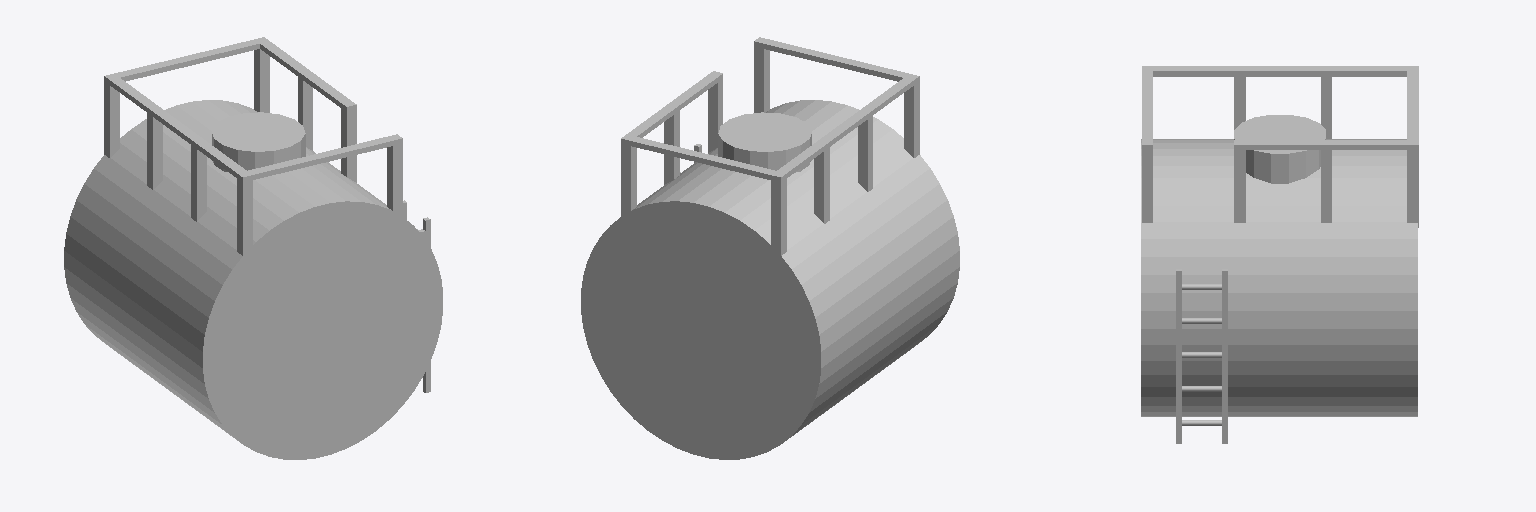
The model's file is gq70_tank_c.obj.
3 renders of one model, left to right at view 1: azimuth 30°, elevation 25°; view 2: azimuth 150°, elevation 25°; view 3: azimuth 270°, elevation 25°, orthographic.
Visible parts, largest first — view 1: cylinder; view 2: cylinder; view 3: cylinder.
Boxes of the visible parts, <box> form: cylinder: <box>64,37,442,459</box>; cylinder: <box>581,37,959,459</box>; cylinder: <box>1141,66,1418,443</box>.
Bounding box in the file's own units: 3.07 × 3.57 × 3.